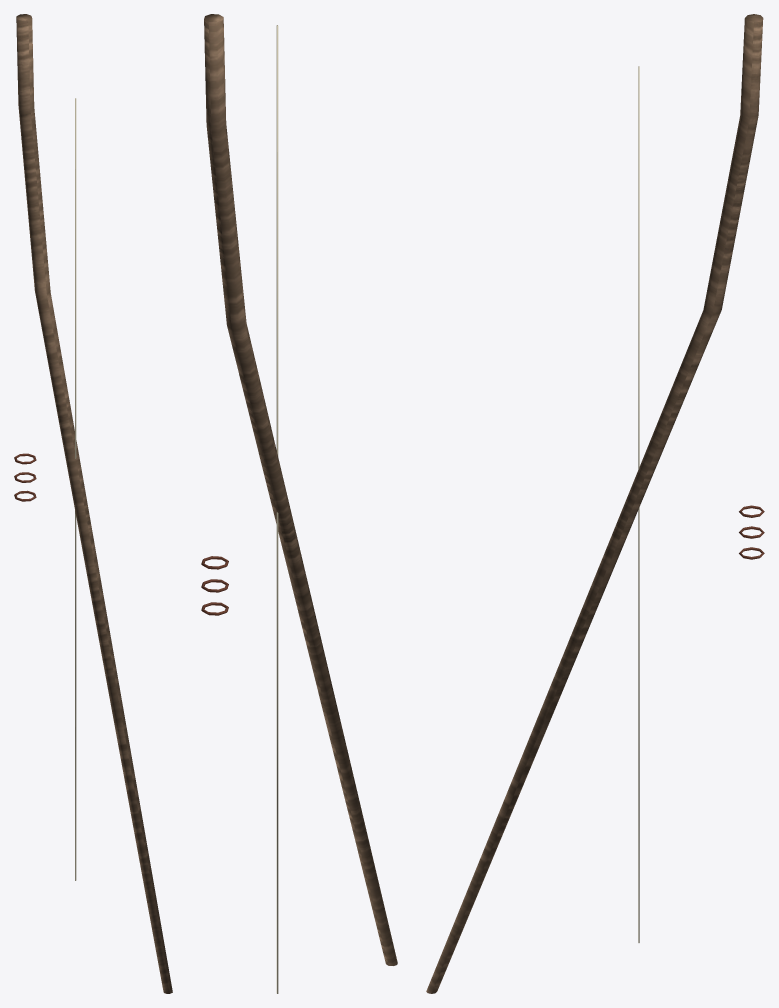
The model's file is longbow.fbx.
3 views of the same model, side by side, from view 1: azimuth 30°, elevation 25°; view 2: azimuth 150°, elevation 25°; view 3: azimuth 270°, elevation 25° (orthographic). The views are drawn at different scales.
Parts seen in each view (by area): view 1: longbow; view 2: longbow; view 3: longbow.
Part boxes in pixels (<box>): longbow: <box>14,14,172,993</box>; longbow: <box>201,14,397,993</box>; longbow: <box>426,14,764,993</box>.
Size of the model in its own units: 0.034 by 1.4 by 0.4412.
Materials: 3 (2 with a texture image).
